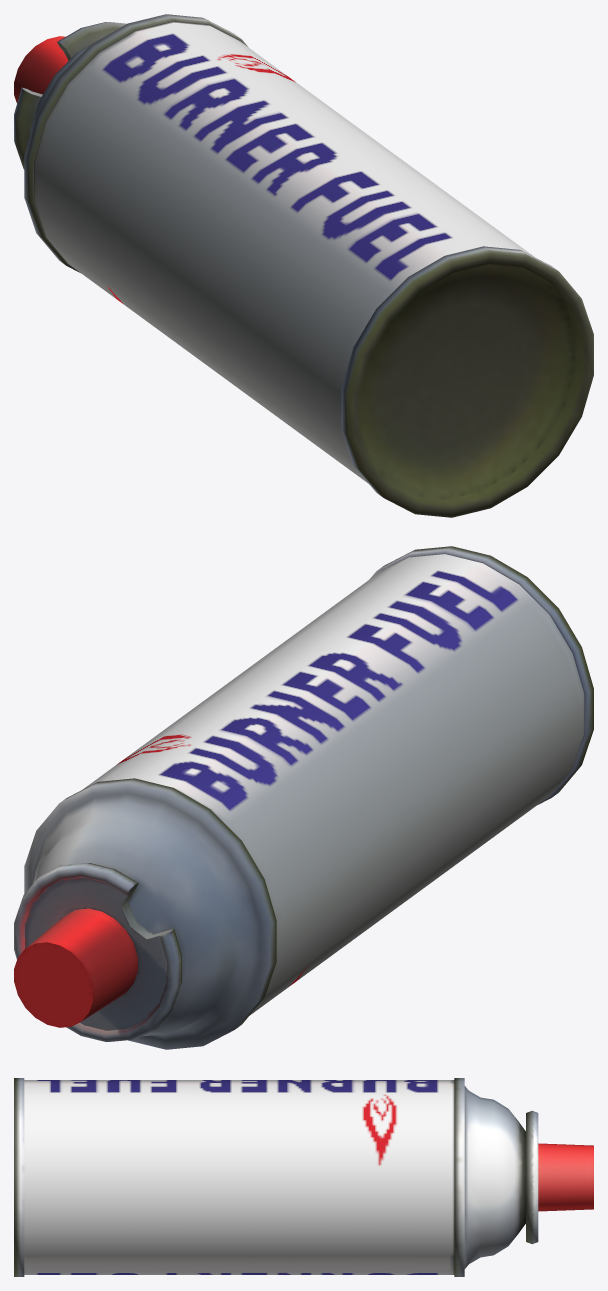
The model's file is burner.fbx.
The picture shows the model from 3 angles, top to bottom: view 1: azimuth 30°, elevation 25°; view 2: azimuth 150°, elevation 25°; view 3: azimuth 270°, elevation 25°; orthographic projection. The views are drawn at different scales.
Parts seen in each view (by area): view 1: Circle; view 2: Circle; view 3: Circle.
Boxes of the visible parts, left/top/right/bottom form: Circle: left=14, top=14, right=593, bottom=517; Circle: left=14, top=546, right=593, bottom=1049; Circle: left=14, top=1078, right=593, bottom=1276.
Bounding box in the file's own units: 30.34 × 30.34 × 89.55.
1 material, 1 textured.
